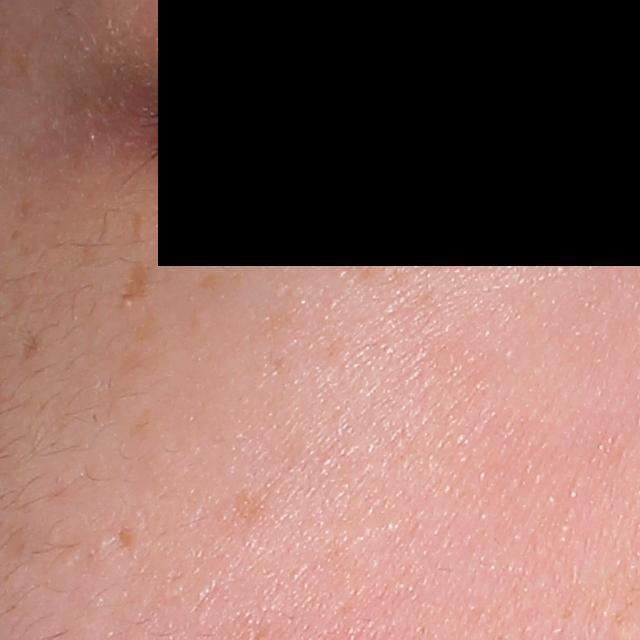melasma: (231, 485, 276, 527), (127, 258, 154, 301), (129, 210, 147, 246), (197, 272, 225, 293)
